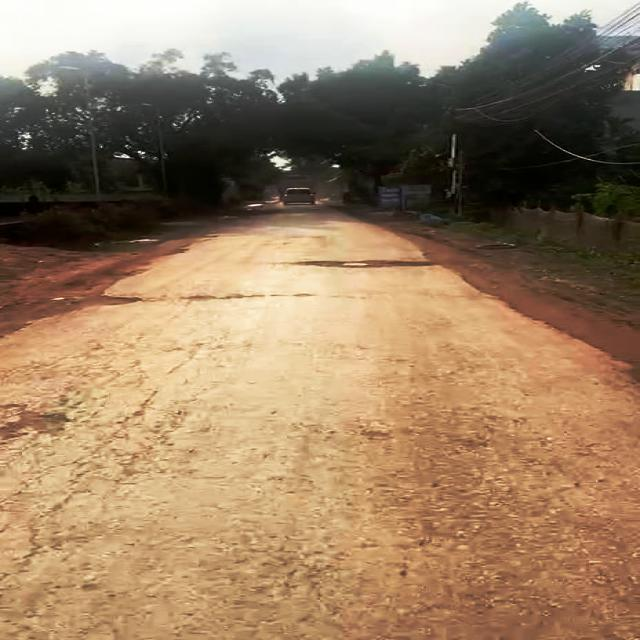pothole: (291, 257, 436, 272), (83, 289, 145, 306)
